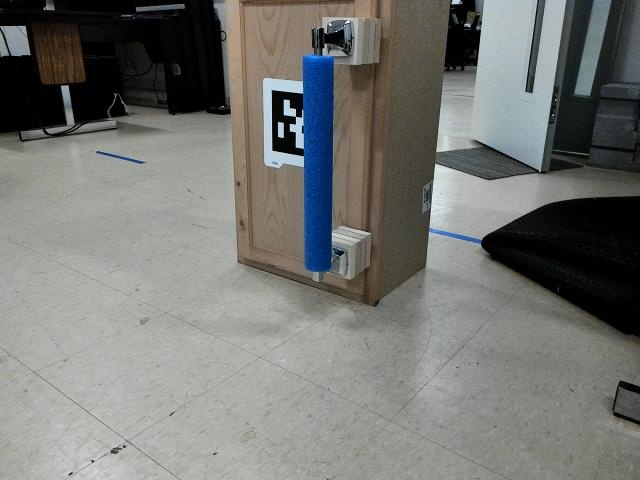noodle_handle: (292, 41, 346, 276)
